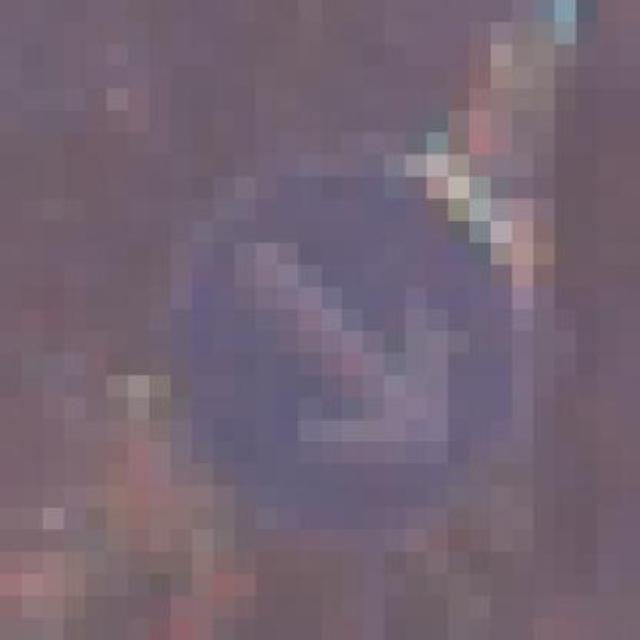Keep-Right: (150, 110, 556, 552)
